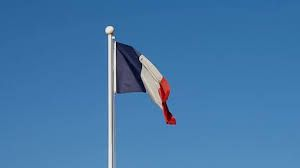French Flag: (115, 43, 178, 125)
